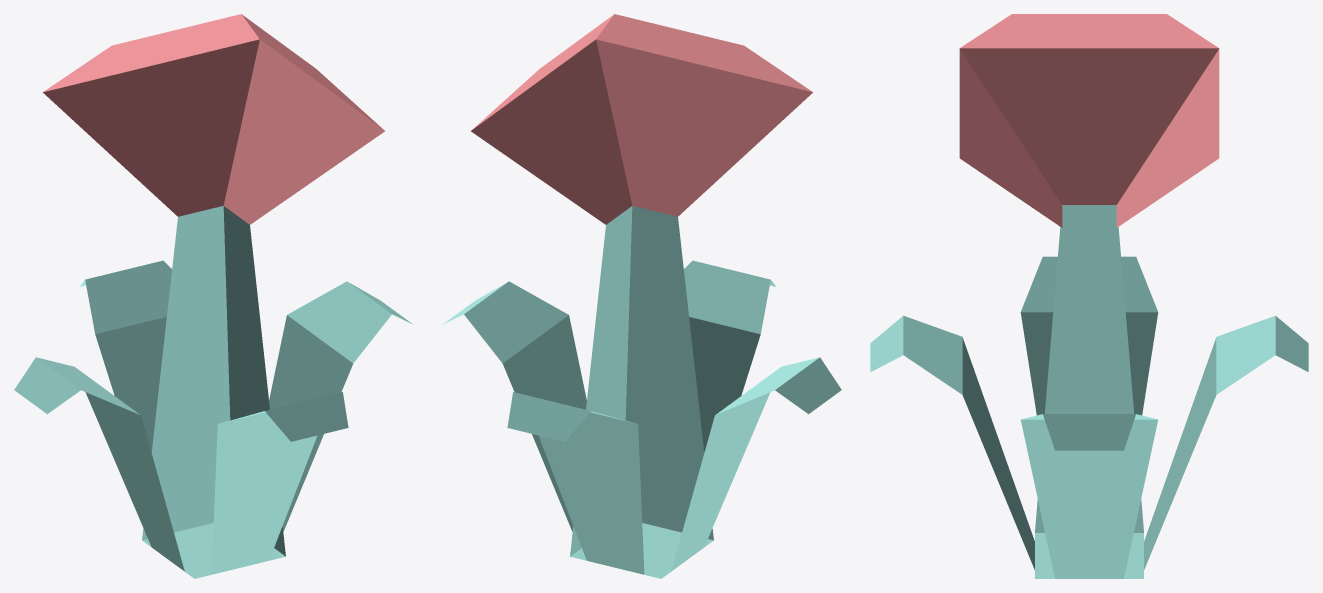
Rendered from flower_red2.glb.
3 views of the same model, side by side, from view 1: azimuth 30°, elevation 25°; view 2: azimuth 150°, elevation 25°; view 3: azimuth 270°, elevation 25° (orthographic). The views are drawn at different scales.
Visible parts, largest first — view 1: flower_red2; view 2: flower_red2; view 3: flower_red2.
Boxes of the visible parts, <box> form: flower_red2: <box>14,14,412,578</box>; flower_red2: <box>443,14,841,578</box>; flower_red2: <box>870,14,1308,578</box>.
Bounding box in the file's own units: 1.71 × 2.2 × 1.71.
